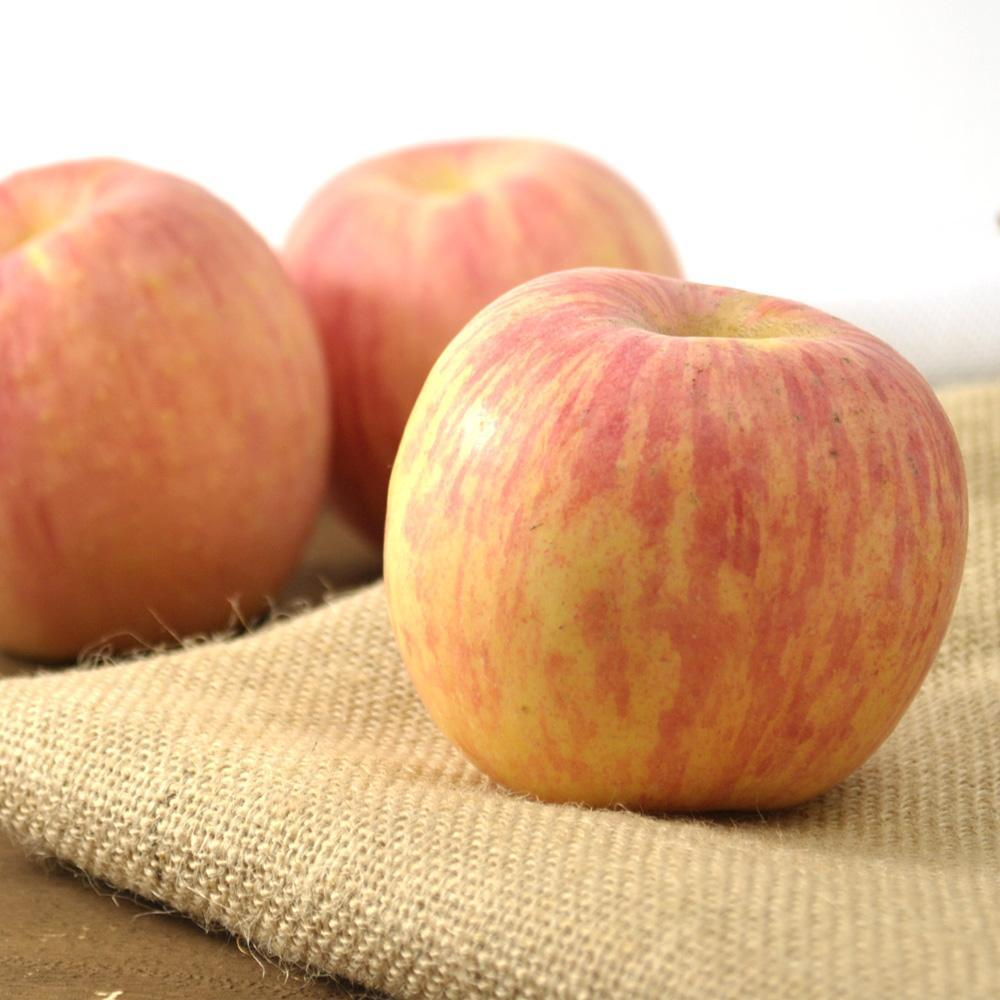apple: (393, 280, 971, 828), (2, 161, 337, 682), (283, 145, 684, 544)
